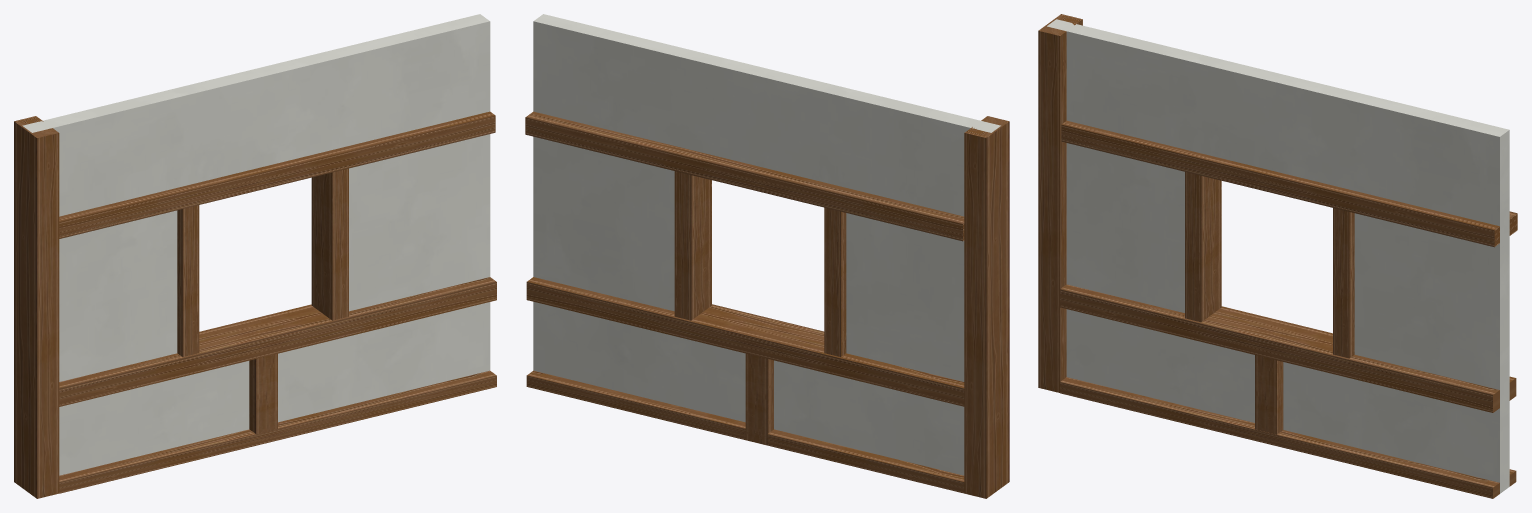
File: SM_Window_Wall_02_wstone.glb
The picture shows the model from 3 angles, left to right: view 1: azimuth 30°, elevation 25°; view 2: azimuth 150°, elevation 25°; view 3: azimuth 330°, elevation 25°; orthographic projection.
Parts seen in each view (by area): view 1: SM_Window_Wall_02; view 2: SM_Window_Wall_02; view 3: SM_Window_Wall_02.
Part boxes in pixels (left/top/right/bottom): SM_Window_Wall_02: left=14, top=14, right=496, bottom=498; SM_Window_Wall_02: left=525, top=14, right=1009, bottom=498; SM_Window_Wall_02: left=1038, top=14, right=1517, bottom=498.
Size of the model in its own units: 4 by 3 by 0.3736.
Materials: 2 (2 with a texture image).
